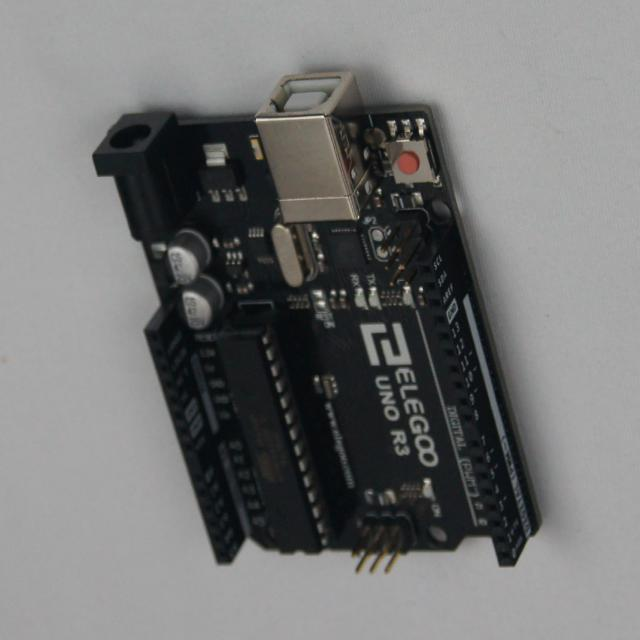Arduino Uno -Black-: (94, 73, 539, 572)
